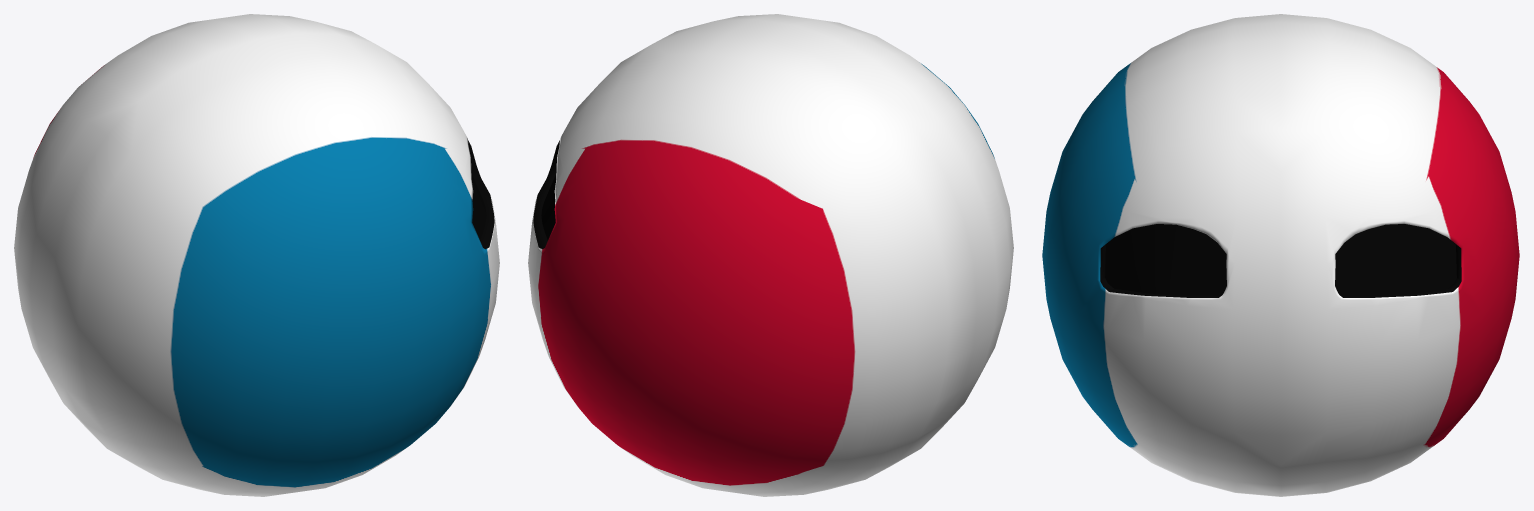
The picture shows the model from 3 angles, left to right: view 1: azimuth 30°, elevation 25°; view 2: azimuth 150°, elevation 25°; view 3: azimuth 270°, elevation 25°; orthographic projection.
Visible parts, largest first — view 1: Cube; view 2: Cube; view 3: Cube.
Part boxes in pixels (bbox=[...]): Cube: bbox=[14, 14, 499, 496]; Cube: bbox=[528, 14, 1013, 496]; Cube: bbox=[1042, 14, 1519, 496].
Size of the model in its own units: 168 by 168 by 168.
